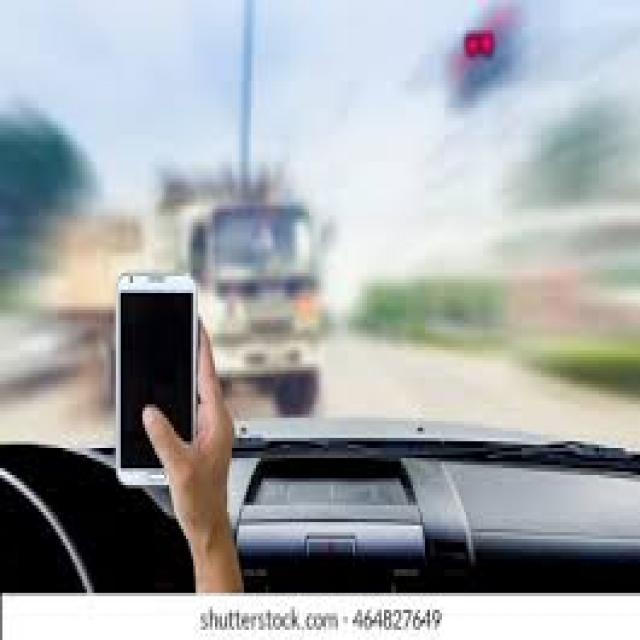Cellphone_texting: (104, 260, 239, 532)
